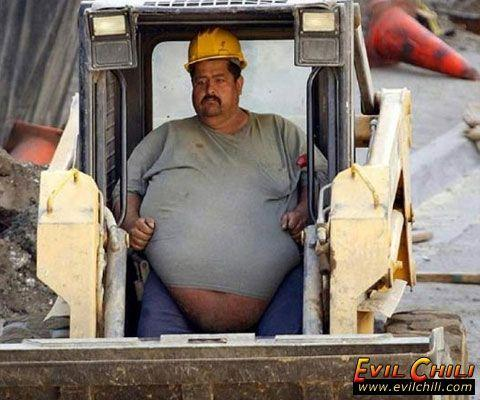helmet: (186, 29, 250, 71)
